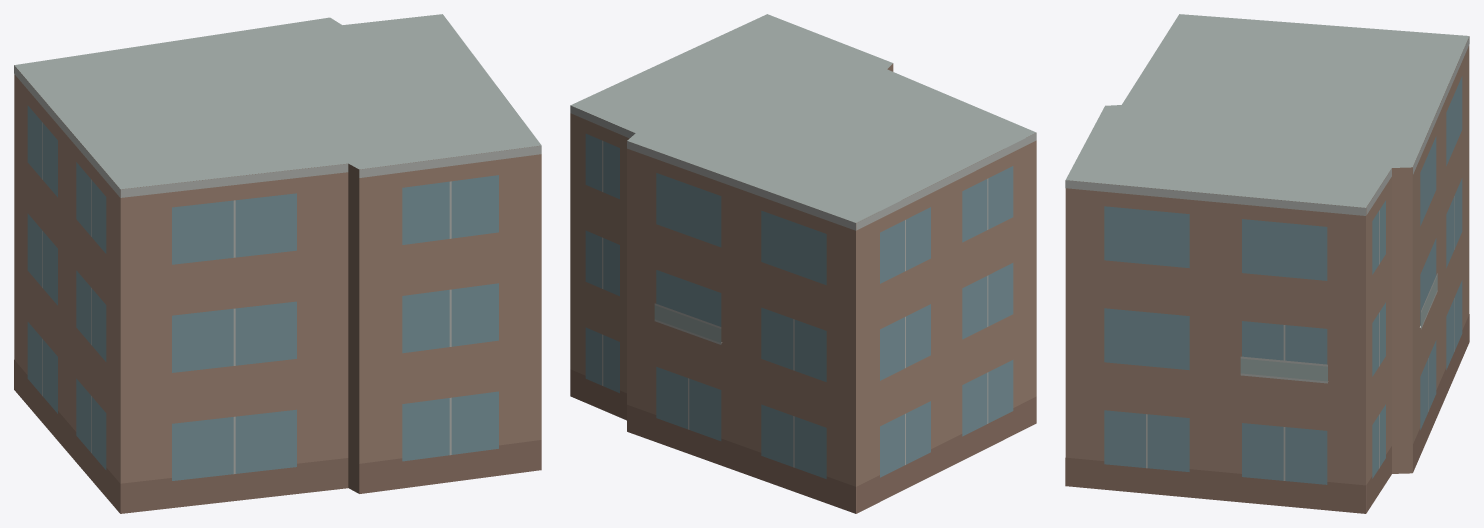
File: survey-upis-32479457.glb
The picture shows the model from 3 angles, left to right: view 1: azimuth 30°, elevation 25°; view 2: azimuth 150°, elevation 25°; view 3: azimuth 270°, elevation 25°; orthographic projection. The views are drawn at different scales.
Visible parts, largest first — view 1: survey-upis-32479457.tmp; view 2: survey-upis-32479457.tmp; view 3: survey-upis-32479457.tmp.
Part boxes in pixels (x1,y1,x2,y2): survey-upis-32479457.tmp: [14, 14, 541, 513]; survey-upis-32479457.tmp: [570, 14, 1036, 513]; survey-upis-32479457.tmp: [1065, 14, 1469, 513].
Size of the model in its own units: 12.44 by 9.15 by 10.96.
